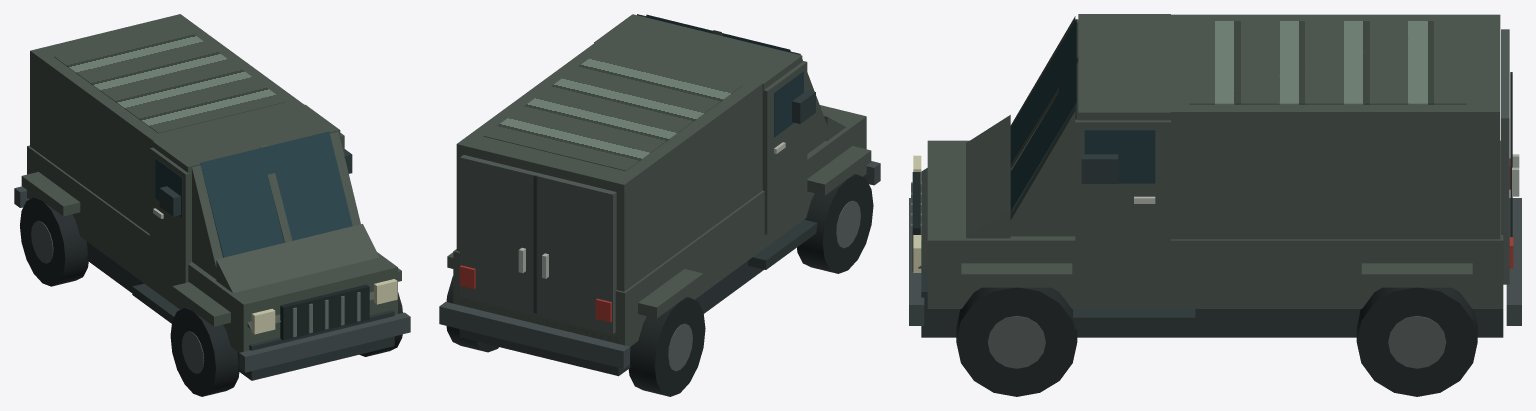
File: CMU3DReduxVehicleVan.glb
3 renders of one model, left to right at view 1: azimuth 30°, elevation 25°; view 2: azimuth 150°, elevation 25°; view 3: azimuth 270°, elevation 25°, orthographic. The views are drawn at different scales.
Parts seen in each view (by area): view 1: enclosed rear body, source roof livery, windshield, lower vehicle body, rubber road tire (×2), front hood, cab bulkhead, cab door skin, bumper, sealed chassis, sloping cab frame, front grille (+7 smaller); view 2: enclosed rear body, rear double doors, source roof livery, lower vehicle body, rubber road tire (×3), cab bulkhead, cab door skin, bumper, wheel fender (×2), sealed chassis, recessed metal wheel hub (×2), running board (+5 smaller); view 3: enclosed rear body, lower vehicle body, source roof livery, rubber road tire (×2), cab door skin, cab bulkhead, sealed chassis, front hood, wheel fender (×2), windshield, sloping cab frame, recessed metal wheel hub (×2) (+7 smaller).
Boxes of the visible parts, x1,y1,x2,y2 form: enclosed rear body: (30,14,303,233); source roof livery: (54,25,285,133); windshield: (200,131,352,257); lower vehicle body: (27,145,397,352); rubber road tire (×2): (20,197,239,396); front hood: (216,224,379,329); cab bulkhead: (153,104,340,262); cab door skin: (149,147,190,292); bumper: (239,312,410,372); sealed chassis: (86,241,394,380); sloping cab frame: (192,131,360,281); front grille: (280,284,369,340); enclosed rear body: (456,38,768,291); rear double doors: (460,155,616,334); source roof livery: (483,51,741,171); lower vehicle body: (453,105,866,346); rubber road tire (×3): (446,174,873,396); cab bulkhead: (594,14,802,169); cab door skin: (762,60,807,234); bumper: (439,302,629,368); wheel fender (×2): (638,146,871,318); sealed chassis: (459,261,763,376); recessed metal wheel hub (×2): (668,200,860,371); running board: (748,219,817,269); enclosed rear body: (1155,14,1500,239); lower vehicle body: (927,140,1503,308); source roof livery: (1189,21,1466,104); rubber road tire (×2): (956,287,1477,396); cab door skin: (1075,119,1170,293); cab bulkhead: (1078,14,1170,120); sealed chassis: (921,268,1503,337); front hood: (918,115,1010,268); wheel fender (×2): (961,263,1472,287); windshield: (1010,19,1076,211); sloping cab frame: (1004,16,1075,236); recessed metal wheel hub (×2): (987,315,1446,368).
Size of the model in its own units: 1.38 by 1.46 by 2.92.
Materials: 19 (1 with a texture image).
